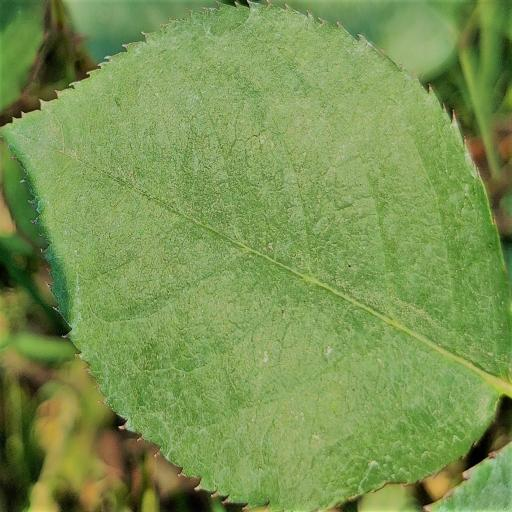healthy_leaf: (2, 3, 512, 510)
